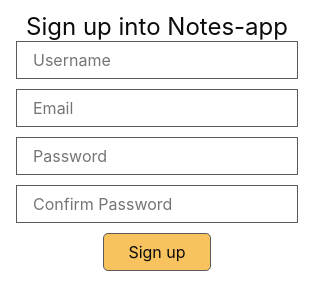
Scenario: Register form tests › should return errors
Click the button "Sign up". click: (157, 252)
box: left=103, top=233, right=211, bottom=271
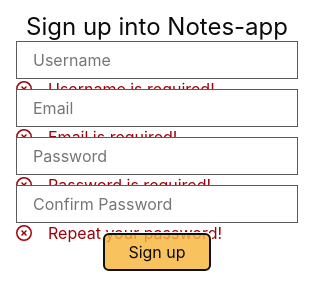
Expected: the text "Username is required!" is shown 3 times, left=32, top=79, right=215, bottom=99; left=32, top=127, right=177, bottom=147; left=32, top=175, right=211, bottom=195
